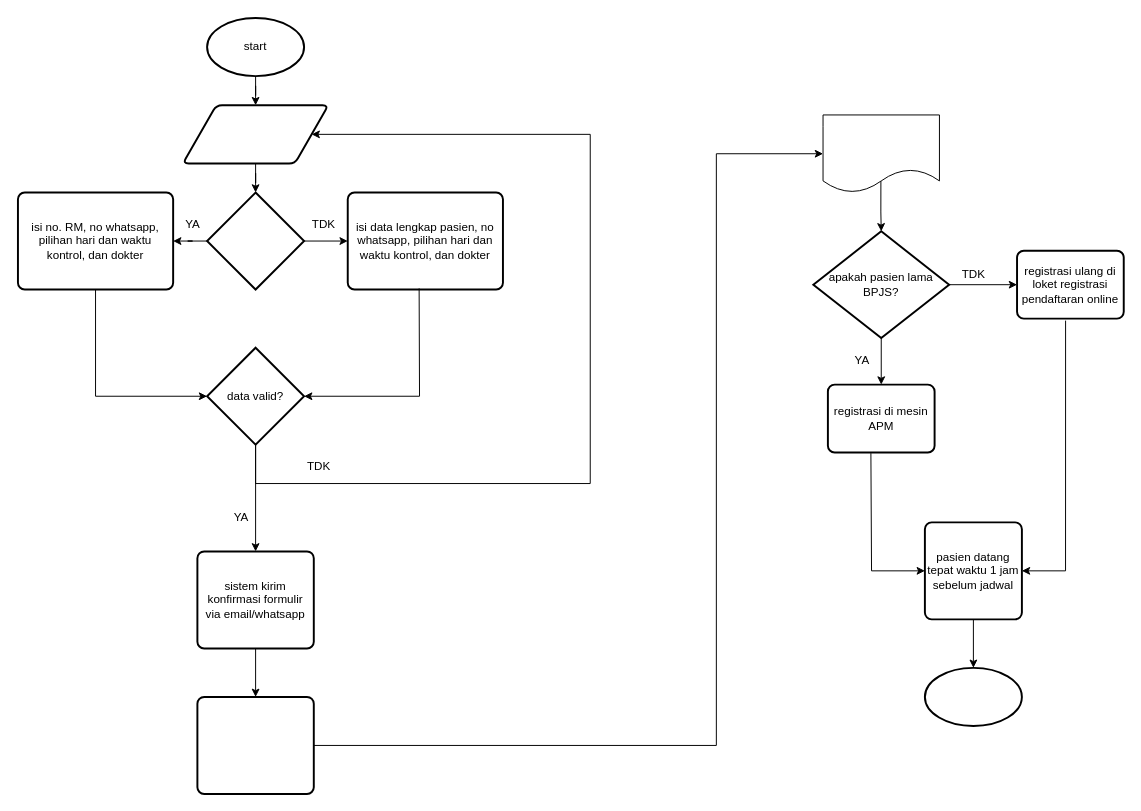
The diagram is 1141 pixels wide and 811 high, and some of its shapes have lost their labels. Here are the shapes that lost their labels. From the top down, the centre of each, then its label:
(255,134): pasien isi formulir pendaftaran
(880,153): Formulir Pendaftaran
(255,240): pasien lama?
(972,696): end
(255,744): tampil halaman konfirmasi formulir
